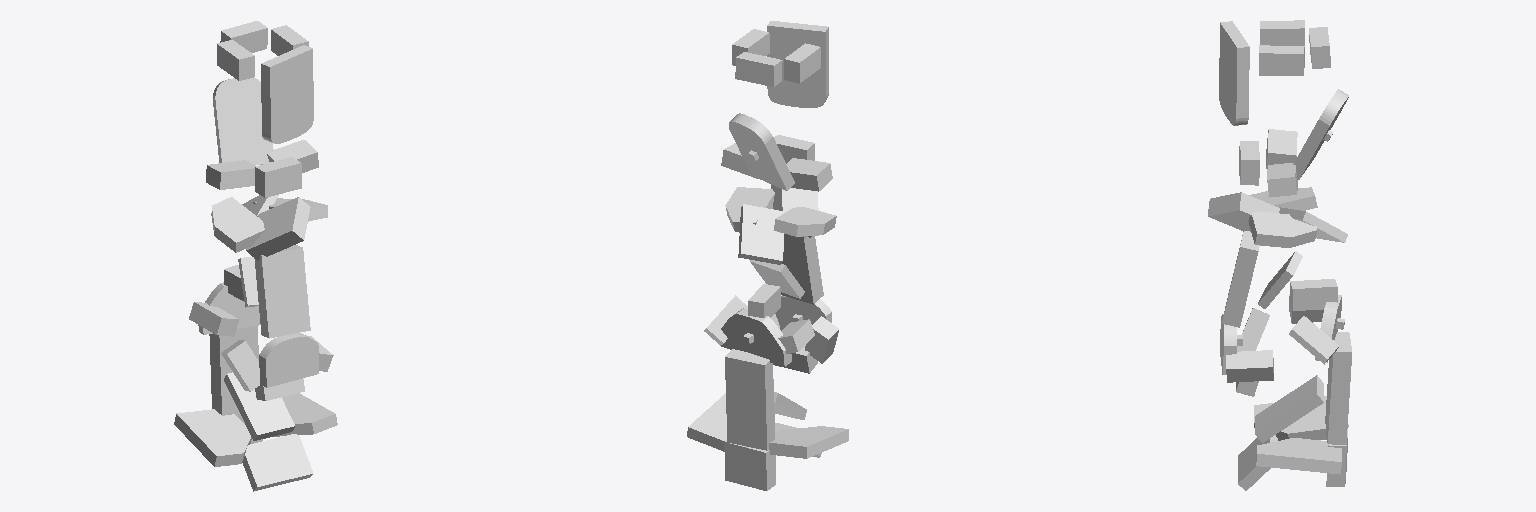
--- Facts derived from the render (not from the file) ---
3 views of the same robot in one strip: view 1: azimuth 30°, elevation 25°; view 2: azimuth 150°, elevation 25°; view 3: azimuth 270°, elevation 25° (orthographic).
Robot: GEN3_URDF_V12 — 38 links, 37 joints (3 revolute, 4 continuous, 30 fixed); root link base_link; default pose: all joints at 0.
Links seen in each view (by area): view 1: Taxel_1001, Taxel_1012, Taxel_1005, Taxel_1024, Taxel_1026, Taxel_1011, Taxel_1013, Taxel_1027, Taxel_1014, Taxel_1022, Taxel_1007, Taxel_1025 (+10 smaller); view 2: Taxel_1022, Taxel_1001, Taxel_1005, Taxel_1021, Taxel_1016, Taxel_1023, Taxel_1012, Taxel_1024, Taxel_1014, Taxel_1025, Taxel_1003, Taxel_1006 (+13 smaller); view 3: Taxel_1001, Taxel_1025, Taxel_1022, Taxel_1027, Taxel_1015, Taxel_1012, Taxel_1013, Taxel_1005, Taxel_1008, Taxel_1002, Taxel_1019, Taxel_1024 (+13 smaller).
Boxes of the visible links, bbox=[...] form: Taxel_1001: bbox=[261, 45, 313, 143]; Taxel_1012: bbox=[254, 245, 310, 338]; Taxel_1005: bbox=[213, 78, 273, 164]; Taxel_1024: bbox=[174, 409, 251, 466]; Taxel_1026: bbox=[242, 434, 313, 491]; Taxel_1011: bbox=[259, 333, 318, 387]; Taxel_1013: bbox=[246, 197, 310, 260]; Taxel_1027: bbox=[224, 372, 294, 440]; Taxel_1014: bbox=[211, 197, 264, 252]; Taxel_1022: bbox=[209, 326, 258, 415]; Taxel_1007: bbox=[255, 157, 301, 197]; Taxel_1025: bbox=[274, 393, 337, 436]; Taxel_1022: bbox=[725, 349, 774, 450]; Taxel_1001: bbox=[767, 21, 828, 107]; Taxel_1005: bbox=[729, 113, 794, 190]; Taxel_1021: bbox=[721, 308, 791, 366]; Taxel_1016: bbox=[738, 204, 784, 264]; Taxel_1023: bbox=[724, 440, 775, 490]; Taxel_1012: bbox=[781, 234, 823, 304]; Taxel_1024: bbox=[769, 426, 848, 458]; Taxel_1014: bbox=[774, 207, 836, 237]; Taxel_1025: bbox=[687, 393, 726, 451]; Taxel_1003: bbox=[735, 52, 782, 86]; Taxel_1006: bbox=[786, 158, 832, 191]; Taxel_1001: bbox=[1219, 21, 1249, 125]; Taxel_1025: bbox=[1256, 438, 1341, 474]; Taxel_1022: bbox=[1325, 332, 1351, 444]; Taxel_1027: bbox=[1255, 375, 1323, 442]; Taxel_1015: bbox=[1248, 211, 1316, 247]; Taxel_1012: bbox=[1222, 231, 1259, 327]; Taxel_1013: bbox=[1208, 192, 1279, 231]; Taxel_1005: bbox=[1293, 89, 1348, 179]; Taxel_1008: bbox=[1226, 350, 1273, 382]; Taxel_1002: bbox=[1259, 45, 1304, 75]; Taxel_1019: bbox=[1290, 279, 1337, 310]; Taxel_1024: bbox=[1254, 396, 1326, 440].
Size in the robot's own frame: 0.182 by 0.1786 by 0.603 metres.
28 mesh visuals loaded from 36 distinct referenced files (28 binary STL); not drawn: 8 (reference not matched to a file when rendering).

URDF robot description (GEN3_URDF_V12):
<robot name="GEN3_URDF_V12" version="1.0">
  <material name="carbon_fiber">
    <color rgba="0.9 0.9 0.9 1"/>
  </material>
  <link name="base_link">
    <inertial>
      <origin xyz="-0.000648 -0.000166 0.084487" rpy="0 0 0" />
      <mass value="1.697" />
      <inertia ixx="0.004622" ixy="9E-06" ixz="6E-05" iyy="0.004495" iyz="9E-06" izz="0.002079" />
    </inertial>
    <visual>
      <origin xyz="0 0 0" rpy="0 0 0" />
      <geometry>
        <mesh filename="package://meshes/base_link.STL" />
      </geometry>
      <material name="carbon_fiber"/>
    </visual>
    <collision>
      <origin xyz="0 0 0" rpy="0 0 0" />
      <geometry>
        <mesh filename="package://meshes/base_link.STL" />
      </geometry>
    </collision>
  </link>
  <link name="Shoulder_Link">
    <inertial>
      <origin xyz="-2.3E-05 -0.010364 -0.07336" rpy="0 0 0" />
      <mass value="1.3773" />
      <inertia ixx="0.00457" ixy="1E-06" ixz="2E-06" iyy="0.004831" iyz="0.000448" izz="0.001409" />
    </inertial>
    <visual>
      <origin xyz="0 0 0" rpy="0 0 0" />
      <geometry>
        <mesh filename="package://meshes/shoulder_link.STL" />
      </geometry>
      <material name="carbon_fiber"/>
    </visual>
    <collision>
      <origin xyz="0 0 0" rpy="0 0 0" />
      <geometry>
        <mesh filename="package://meshes/shoulder_link.STL" />
      </geometry>
    </collision>
  </link>
  <joint name="Actuator1" type="continuous">
    <origin xyz="0 0 0.15643" rpy="3.1416 2.7629E-18 -4.9305E-36" />
    <parent link="base_link" />
    <child link="Shoulder_Link" />
    <axis xyz="0 0 1" />
    <limit effort="39" velocity="0.8727" />
  </joint>
  <link name="HalfArm1_Link">
    <inertial>
      <origin xyz="-4.4E-05 -0.09958 -0.013278" rpy="0 0 0" />
      <mass value="1.1636" />
      <inertia ixx="0.011088" ixy="5E-06" ixz="0" iyy="0.001072" iyz="-0.000691" izz="0.011255" />
    </inertial>
    <visual>
      <origin xyz="0 0 0" rpy="0 0 0" />
      <geometry>
        <mesh filename="package://meshes/half_arm_1_link.STL" />
      </geometry>
      <material name="carbon_fiber"/>
    </visual>
    <collision>
      <origin xyz="0 0 0" rpy="0 0 0" />
      <geometry>
        <mesh filename="package://meshes/half_arm_1_link.STL" />
      </geometry>
    </collision>
  </link>
  <joint name="Actuator2" type="revolute">
    <origin xyz="0 0.005375 -0.12838" rpy="1.5708 2.1343E-17 -1.1102E-16" />
    <parent link="Shoulder_Link" />
    <child link="HalfArm1_Link" />
    <axis xyz="0 0 1" />
    <limit lower="-2.41" upper="2.41" effort="39" velocity="0.8727" />
  </joint>
  <link name="HalfArm2_Link">
    <inertial>
      <origin xyz="-4.4E-05 -0.006641 -0.117892" rpy="0 0 0" />
      <mass value="1.1636" />
      <inertia ixx="0.010932" ixy="0" ixz="-7E-06" iyy="0.011127" iyz="0.000606" izz="0.001043" />
    </inertial>
    <visual>
      <origin xyz="0 0 0" rpy="0 0 0" />
      <geometry>
        <mesh filename="package://meshes/half_arm_2_link.STL" />
      </geometry>
      <material name="carbon_fiber"/>
    </visual>
    <collision>
      <origin xyz="0 0 0" rpy="0 0 0" />
      <geometry>
        <mesh filename="package://meshes/half_arm_2_link.STL" />
      </geometry>
    </collision>
  </link>
  <joint name="Actuator3" type="continuous">
    <origin xyz="0 -0.21038 -0.006375" rpy="-1.5708 1.2326E-32 -2.9122E-16" />
    <parent link="HalfArm1_Link" />
    <child link="HalfArm2_Link" />
    <axis xyz="0 0 1" />
    <limit effort="39" velocity="0.8727" />
  </joint>
  <link name="ForeArm_Link">
    <inertial>
      <origin xyz="-1.8E-05 -0.075478 -0.015006" rpy="0 0 0" />
      <mass value="0.9302" />
      <inertia ixx="0.008147" ixy="-1E-06" ixz="0" iyy="0.000631" iyz="-0.0005" izz="0.008316" />
    </inertial>
    <visual>
      <origin xyz="0 0 0" rpy="0 0 0" />
      <geometry>
        <mesh filename="package://meshes/forearm_link.STL" />
      </geometry>
      <material name="carbon_fiber"/>
    </visual>
    <collision>
      <origin xyz="0 0 0" rpy="0 0 0" />
      <geometry>
        <mesh filename="package://meshes/forearm_link.STL" />
      </geometry>
    </collision>
  </link>
  <joint name="Actuator4" type="revolute">
    <origin xyz="0 0.006375 -0.21038" rpy="1.5708 -6.6954E-17 -1.6653E-16" />
    <parent link="HalfArm2_Link" />
    <child link="ForeArm_Link" />
    <axis xyz="0 0 1" />
    <limit lower="-2.66" upper="2.66" effort="39" velocity="0.8727" />
  </joint>
  <link name="SphericalWrist1_Link">
    <inertial>
      <origin xyz="1E-06 -0.009432 -0.063883" rpy="0 0 0" />
      <mass value="0.6781" />
      <inertia ixx="0.001596" ixy="0" ixz="0" iyy="0.001607" iyz="0.000256" izz="0.000399" />
    </inertial>
    <visual>
      <origin xyz="0 0 0" rpy="0 0 0" />
      <geometry>
        <mesh filename="package://meshes/spherical_wrist_1_link.STL" />
      </geometry>
      <material name="carbon_fiber"/>
    </visual>
    <collision>
      <origin xyz="0 0 0" rpy="0 0 0" />
      <geometry>
        <mesh filename="package://meshes/spherical_wrist_1_link.STL" />
      </geometry>
    </collision>
  </link>
  <joint name="Actuator5" type="continuous">
    <origin xyz="0 -0.20843 -0.006375" rpy="-1.5708 2.2204E-16 -6.373E-17" />
    <parent link="ForeArm_Link" />
    <child link="SphericalWrist1_Link" />
    <axis xyz="0 0 1" />
    <limit effort="9" velocity="0.8727" />
  </joint>
  <link name="SphericalWrist2_Link">
    <inertial>
      <origin xyz="1E-06 -0.045483 -0.00965" rpy="0 0 0" />
      <mass value="0.6781" />
      <inertia ixx="0.001641" ixy="0" ixz="0" iyy="0.00041" iyz="-0.000278" izz="0.001641" />
    </inertial>
    <visual>
      <origin xyz="0 0 0" rpy="0 0 0" />
      <geometry>
        <mesh filename="package://meshes/spherical_wrist_2_link.STL" />
      </geometry>
      <material name="carbon_fiber"/>
    </visual>
    <collision>
      <origin xyz="0 0 0" rpy="0 0 0" />
      <geometry>
        <mesh filename="package://meshes/spherical_wrist_2_link.STL" />
      </geometry>
    </collision>
  </link>
  <joint name="Actuator6" type="revolute">
    <origin xyz="0 0.00017505 -0.10593" rpy="1.5708 9.2076E-28 -8.2157E-15" />
    <parent link="SphericalWrist1_Link" />
    <child link="SphericalWrist2_Link" />
    <axis xyz="0 0 1" />
    <limit lower="-2.23" upper="2.23" effort="9" velocity="0.8727" />
  </joint>
  <link name="Bracelet_Link">
    <inertial>
      <origin xyz="-0.000281 -0.011402 -0.029798" rpy="0 0 0" />
      <mass value="0.5006" />
      <inertia ixx="0.000587" ixy="3E-06" ixz="3E-06" iyy="0.000369" iyz="0.000118" izz="0.000609" />
    </inertial>
    <visual>
      <origin xyz="0 0 0" rpy="0 0 0" />
      <geometry>
        <mesh filename="package://meshes/bracelet_link.STL" />
      </geometry>
      <material name="carbon_fiber"/>
    </visual>
    <collision>
      <origin xyz="0 0 0" rpy="0 0 0" />
      <geometry>
        <mesh filename="package://meshes/bracelet_link.STL" />
      </geometry>
    </collision>
  </link>
  <joint name="Actuator7" type="continuous">
    <origin xyz="0 -0.10593 -0.00017505" rpy="-1.5708 -5.5511E-17 9.6396E-17" />
    <parent link="SphericalWrist2_Link" />
    <child link="Bracelet_Link" />
    <axis xyz="0 0 1" />
    <limit effort="9" velocity="0.8727" />
  </joint>
  <link name="EndEffector_Link">
    <inertial>
      <origin xyz="2.607703E-08 -0.06152506 -1.476509E-22" rpy="0 0 3.14159265358979"/>
      <mass value="1e-6" />
      <inertia ixx="1e-6" ixy="0" ixz="0" iyy="1e-6" iyz="0" izz="1e-6" />
    </inertial>
  </link>
  <joint name="EndEffector" type="fixed">
    <origin xyz="0 0 -0.0615250000000001" rpy="3.14159265358979 1.09937075168372E-32 0" />
    <parent link="Bracelet_Link" />
    <child link="EndEffector_Link" />
    <axis xyz="0 0 0" />
  </joint>
  <link name="GraspPoint_Link">
    <inertial>
      <origin xyz="-1.683871E-08 0.15 -9.884628E-23" rpy="0 0 0"/>
      <mass value="1e-6" />
      <inertia ixx="1e-6" ixy="0" ixz="0" iyy="1e-6" iyz="0" izz="1e-6" />
    </inertial>
  </link>
  <joint name="GraspPoint" type="fixed">
    <origin xyz="0 0 0.15" rpy="0 0 0" />
    <parent link="EndEffector_Link" />
    <child link="GraspPoint_Link" />
    <axis xyz="0 0 0" />
  </joint>

  <link name="Taxel_1000">
    <inertial>
      <origin xyz="0 0 0" rpy="0 0 0" />
      <mass value="0" />
      <inertia ixx="0" ixy="0" ixz="0" iyy="0" iyz="0" izz="0" />
    </inertial>
    <visual>
      <origin xyz="-0.04250419541867655 -0.07646850041798192 0.0007855905951708805" rpy="4.603392598434285 1.5765155050427238 3.033130635597651" />
      <geometry>
        <mesh filename="package://meshes/taxel_meshes/taxel_0.STL" scale="0.01 0.01 0.01"/>
      </geometry>
      <material name="carbon_fiber" />
    </visual>
    <collision>
      <origin xyz="0 0 0" rpy="0 0 0" />
      <geometry>
        <mesh filename="package://meshes/taxel_meshes/taxel_0.STL" scale="0.01 0.01 0.01"/>
      </geometry>
    </collision>
  </link>

  <joint name="Taxel_1000_joint" type="fixed">
    <origin xyz="0 0 0" rpy="0 0 0" />
    <parent link="SphericalWrist2_Link" />
    <child link="Taxel_1000" />
    <axis xyz="0 0 0" />
  </joint>


  <link name="Taxel_1001">
    <inertial>
      <origin xyz="0 0 0" rpy="0 0 0" />
      <mass value="0" />
      <inertia ixx="0" ixy="0" ixz="0" iyy="0" iyz="0" izz="0" />
    </inertial>
    <visual>
      <origin xyz="-1.4938605298674768e-05 -0.040050790502569544 -0.051076626480111506" rpy="0.8051031730330349 1.1810370681142635 -0.8047010596119217" />
      <geometry>
        <mesh filename="package://meshes/taxel_meshes/taxel_1.STL" scale="0.01 0.01 0.01"/>
      </geometry>
      <material name="carbon_fiber" />
    </visual>
    <collision>
      <origin xyz="0 0 0" rpy="0 0 0" />
      <geometry>
        <mesh filename="package://meshes/taxel_meshes/taxel_1.STL" scale="0.01 0.01 0.01"/>
      </geometry>
    </collision>
  </link>

  <joint name="Taxel_1001_joint" type="fixed">
    <origin xyz="0 0 0" rpy="0 0 0" />
    <parent link="SphericalWrist2_Link" />
    <child link="Taxel_1001" />
    <axis xyz="0 0 0" />
  </joint>


  <link name="Taxel_1002">
    <inertial>
      <origin xyz="0 0 0" rpy="0 0 0" />
      <mass value="0" />
      <inertia ixx="0" ixy="0" ixz="0" iyy="0" iyz="0" izz="0" />
    </inertial>
    <visual>
      <origin xyz="0.04271566985884755 -0.07873195857060433 -0.00022802633048775445" rpy="1.6799921560089217 1.5765831105032213 0.10839861698426928" />
      <geometry>
        <mesh filename="package://meshes/taxel_meshes/taxel_2.STL" scale="0.01 0.01 0.01"/>
      </geometry>
      <material name="carbon_fiber" />
    </visual>
    <collision>
      <origin xyz="0 0 0" rpy="0 0 0" />
      <geometry>
        <mesh filename="package://meshes/taxel_meshes/taxel_2.STL" scale="0.01 0.01 0.01"/>
      </geometry>
    </collision>
  </link>

  <joint name="Taxel_1002_joint" type="fixed">
    <origin xyz="0 0 0" rpy="0 0 0" />
    <parent link="SphericalWrist2_Link" />
    <child link="Taxel_1002" />
    <axis xyz="0 0 0" />
  </joint>


  <link name="Taxel_1003">
    <inertial>
      <origin xyz="0 0 0" rpy="0 0 0" />
      <mass value="0" />
      <inertia ixx="0" ixy="0" ixz="0" iyy="0" iyz="0" izz="0" />
    </inertial>
    <visual>
      <origin xyz="-1.241750836219415e-05 -0.07730975191366674 0.0431837840229755" rpy="0.7858420871596953 -1.4940900297599693 -2.355205855806937" />
      <geometry>
        <mesh filename="package://meshes/taxel_meshes/taxel_3.STL" scale="0.01 0.01 0.01"/>
      </geometry>
      <material name="carbon_fiber" />
    </visual>
    <collision>
      <origin xyz="0 0 0" rpy="0 0 0" />
      <geometry>
        <mesh filename="package://meshes/taxel_meshes/taxel_3.STL" scale="0.01 0.01 0.01"/>
      </geometry>
    </collision>
  </link>

  <joint name="Taxel_1003_joint" type="fixed">
    <origin xyz="0 0 0" rpy="0 0 0" />
    <parent link="SphericalWrist2_Link" />
    <child link="Taxel_1003" />
    <axis xyz="0 0 0" />
  </joint>


  <link name="Taxel_1004">
    <inertial>
      <origin xyz="0 0 0" rpy="0 0 0" />
      <mass value="0" />
      <inertia ixx="0" ixy="0" ixz="0" iyy="0" iyz="0" izz="0" />
    </inertial>
    <visual>
      <origin xyz="0.043150247276728726 -0.0001254639437208889 -0.02783098306648868" rpy="-1.462889824467867 0.10742518247060699 0.010391764577284988" />
      <geometry>
        <mesh filename="package://meshes/taxel_meshes/taxel_4.STL" scale="0.01 0.01 0.01"/>
      </geometry>
      <material name="carbon_fiber" />
    </visual>
    <collision>
      <origin xyz="0 0 0" rpy="0 0 0" />
      <geometry>
        <mesh filename="package://meshes/taxel_meshes/taxel_4.STL" scale="0.01 0.01 0.01"/>
      </geometry>
    </collision>
  </link>

  <joint name="Taxel_1004_joint" type="fixed">
    <origin xyz="0 0 0" rpy="0 0 0" />
    <parent link="SphericalWrist1_Link" />
    <child link="Taxel_1004" />
    <axis xyz="0 0 0" />
  </joint>


  <link name="Taxel_1005">
    <inertial>
      <origin xyz="0 0 0" rpy="0 0 0" />
      <mass value="0" />
      <inertia ixx="0" ixy="0" ixz="0" iyy="0" iyz="0" izz="0" />
    </inertial>
    <visual>
      <origin xyz="-0.0002382337409993086 -0.05179760671765822 -0.06710984221647054" rpy="3.1415729263051864 -0.2887493170310711 -1.2820007033549436" />
      <geometry>
        <mesh filename="package://meshes/taxel_meshes/taxel_5.STL" scale="0.01 0.01 0.01"/>
      </geometry>
      <material name="carbon_fiber" />
    </visual>
    <collision>
      <origin xyz="0 0 0" rpy="0 0 0" />
      <geometry>
        <mesh filename="package://meshes/taxel_meshes/taxel_5.STL" scale="0.01 0.01 0.01"/>
      </geometry>
    </collision>
  </link>

  <joint name="Taxel_1005_joint" type="fixed">
    <origin xyz="0 0 0" rpy="0 0 0" />
    <parent link="SphericalWrist1_Link" />
    <child link="Taxel_1005" />
    <axis xyz="0 0 0" />
  </joint>


  <link name="Taxel_1006">
    <inertial>
      <origin xyz="0 0 0" rpy="0 0 0" />
      <mass value="0" />
      <inertia ixx="0" ixy="0" ixz="0" iyy="0" iyz="0" izz="0" />
    </inertial>
    <visual>
      <origin xyz="-0.04318974980140639 -0.00010915210035311942 -0.02761946835919482" rpy="1.6784554426391078 0.1071455967644725 -3.1313389720234928" />
      <geometry>
        <mesh filename="package://meshes/taxel_meshes/taxel_6.STL" scale="0.01 0.01 0.01"/>
      </geometry>
      <material name="carbon_fiber" />
    </visual>
    <collision>
      <origin xyz="0 0 0" rpy="0 0 0" />
      <geometry>
        <mesh filename="package://meshes/taxel_meshes/taxel_6.STL" scale="0.01 0.01 0.01"/>
      </geometry>
    </collision>
  </link>

  <joint name="Taxel_1006_joint" type="fixed">
    <origin xyz="0 0 0" rpy="0 0 0" />
    <parent link="SphericalWrist1_Link" />
    <child link="Taxel_1006" />
    <axis xyz="0 0 0" />
  </joint>


  <link name="Taxel_1007">
    <inertial>
      <origin xyz="0 0 0" rpy="0 0 0" />
      <mass value="0" />
      <inertia ixx="0" ixy="0" ixz="0" iyy="0" iyz="0" izz="0" />
    </inertial>
    <visual>
      <origin xyz="-1.1618120415300221e-05 0.043922698718644126 -0.02686054939608018" rpy="-3.141575363345089 0.034705095518203194 1.5361425157308877" />
      <geometry>
        <mesh filename="package://meshes/taxel_meshes/taxel_7.STL" scale="0.01 0.01 0.01"/>
      </geometry>
      <material name="carbon_fiber" />
    </visual>
    <collision>
      <origin xyz="0 0 0" rpy="0 0 0" />
      <geometry>
        <mesh filename="package://meshes/taxel_meshes/taxel_7.STL" scale="0.01 0.01 0.01"/>
      </geometry>
    </collision>
  </link>

  <joint name="Taxel_1007_joint" type="fixed">
    <origin xyz="0 0 0" rpy="0 0 0" />
    <parent link="SphericalWrist1_Link" />
    <child link="Taxel_1007" />
    <axis xyz="0 0 0" />
  </joint>


  <link name="Taxel_1008">
    <inertial>
      <origin xyz="0 0 0" rpy="0 0 0" />
      <mass value="0" />
      <inertia ixx="0" ixy="0" ixz="0" iyy="0" iyz="0" izz="0" />
    </inertial>
    <visual>
      <origin xyz="0.047082560876994604 0.016625508860321547 -0.046140884202656954" rpy="2.58983245022597 -0.006017370331153325 0.35511138283130766" />
      <geometry>
        <mesh filename="package://meshes/taxel_meshes/taxel_8.STL" scale="0.01 0.01 0.01"/>
      </geometry>
      <material name="carbon_fiber" />
    </visual>
    <collision>
      <origin xyz="0 0 0" rpy="0 0 0" />
      <geometry>
        <mesh filename="package://meshes/taxel_meshes/taxel_8.STL" scale="0.01 0.01 0.01"/>
      </geometry>
    </collision>
  </link>

  <joint name="Taxel_1008_joint" type="fixed">
    <origin xyz="0 0 0" rpy="0 0 0" />
    <parent link="ForeArm_Link" />
    <child link="Taxel_1008" />
    <axis xyz="0 0 0" />
  </joint>


  <link name="Taxel_1009">
    <inertial>
      <origin xyz="0 0 0" rpy="0 0 0" />
      <mass value="0" />
      <inertia ixx="0" ixy="0" ixz="0" iyy="0" iyz="0" izz="0" />
    </inertial>
    <visual>
      <origin xyz="-6.7198083501523495e-06 0.05300935180393007 -0.04461977697709482" rpy="-0.00574583743364575 0.2848268491189645 1.56916429614993" />
      <geometry>
        <mesh filename="package://meshes/taxel_meshes/taxel_9.STL" scale="0.01 0.01 0.01"/>
      </geometry>
      <material name="carbon_fiber" />
    </visual>
    <collision>
      <origin xyz="0 0 0" rpy="0 0 0" />
      <geometry>
        <mesh filename="package://meshes/taxel_meshes/taxel_9.STL" scale="0.01 0.01 0.01"/>
      </geometry>
    </collision>
  </link>

  <joint name="Taxel_1009_joint" type="fixed">
    <origin xyz="0 0 0" rpy="0 0 0" />
    <parent link="ForeArm_Link" />
    <child link="Taxel_1009" />
    <axis xyz="0 0 0" />
  </joint>


  <link name="Taxel_1010">
    <inertial>
      <origin xyz="0 0 0" rpy="0 0 0" />
      <mass value="0" />
      <inertia ixx="0" ixy="0" ixz="0" iyy="0" iyz="0" izz="0" />
    </inertial>
    <visual>
      <origin xyz="-0.047097438974916264 0.016627161287515402 -0.04613586787243025" rpy="2.5894382405952054 0.00585531480516756 2.7166321094460133" />
      <geometry>
        <mesh filename="package://meshes/taxel_meshes/taxel_10.STL" scale="0.01 0.01 0.01"/>
      </geometry>
      <material name="carbon_fiber" />
    </visual>
    <collision>
      <origin xyz="0 0 0" rpy="0 0 0" />
      <geometry>
        <mesh filename="package://meshes/taxel_meshes/taxel_10.STL" scale="0.01 0.01 0.01"/>
      </geometry>
    </collision>
  </link>

  <joint name="Taxel_1010_joint" type="fixed">
    <origin xyz="0 0 0" rpy="0 0 0" />
    <parent link="ForeArm_Link" />
    <child link="Taxel_1010" />
    <axis xyz="0 0 0" />
  </joint>


  <link name="Taxel_1011">
    <inertial>
      <origin xyz="0 0 0" rpy="0 0 0" />
      <mass value="0" />
      <inertia ixx="0" ixy="0" ixz="0" iyy="0" iyz="0" izz="0" />
    </inertial>
    <visual>
      <origin xyz="-7.590645030513553e-06 0.006405133918228834 -0.06439226342932816" rpy="-2.3563396483046097 1.5048366469793355 -0.7866488104429874" />
      <geometry>
        <mesh filename="package://meshes/taxel_meshes/taxel_11.STL" scale="0.01 0.01 0.01"/>
      </geometry>
      <material name="carbon_fiber" />
    </visual>
    <collision>
      <origin xyz="0 0 0" rpy="0 0 0" />
      <geometry>
        <mesh filename="package://meshes/taxel_meshes/taxel_11.STL" scale="0.01 0.01 0.01"/>
      </geometry>
    </collision>
  </link>

  <joint name="Taxel_1011_joint" type="fixed">
    <origin xyz="0 0 0" rpy="0 0 0" />
    <parent link="ForeArm_Link" />
    <child link="Taxel_1011" />
    <axis xyz="0 0 0" />
  </joint>


  <link name="Taxel_1012">
    <inertial>
      <origin xyz="0 0 0" rpy="0 0 0" />
      <mass value="0" />
      <inertia ixx="0" ixy="0" ixz="0" iyy="0" iyz="0" izz="0" />
    </inertial>
    <visual>
      <origin xyz="-8.828563007841432e-06 -0.08046080686920276 -0.059019306181966213" rpy="2.3538499386692475 1.440912816500405 -2.3543282724947714" />
      <geometry>
        <mesh filename="package://meshes/taxel_meshes/taxel_12.STL" scale="0.01 0.01 0.01"/>
      </geometry>
      <material name="carbon_fiber" />
    </visual>
    <collision>
      <origin xyz="0 0 0" rpy="0 0 0" />
      <geometry>
        <mesh filename="package://meshes/taxel_meshes/taxel_12.STL" scale="0.01 0.01 0.01"/>
      </geometry>
    </collision>
  </link>

  <joint name="Taxel_1012_joint" type="fixed">
    <origin xyz="0 0 0" rpy="0 0 0" />
    <parent link="ForeArm_Link" />
    <child link="Taxel_1012" />
    <axis xyz="0 0 0" />
  </joint>


  <link name="Taxel_1013">
    <inertial>
      <origin xyz="0 0 0" rpy="0 0 0" />
      <mass value="0" />
      <inertia ixx="0" ixy="0" ixz="0" iyy="0" iyz="0" izz="0" />
    </inertial>
    <visual>
      <origin xyz="-9.803819467654521e-06 -0.16267771019312338 -0.050246400171184896" rpy="3.9258962085931497 3.06714610464043 -2.3559203713851984" />
      <geometry>
        <mesh filename="package://meshes/taxel_meshes/taxel_13.STL" scale="0.01 0.01 0.01"/>
      </geometry>
      <material name="carbon_fiber" />
    </visual>
    <collision>
      <origin xyz="0 0 0" rpy="0 0 0" />
      <geometry>
        <mesh filename="package://meshes/taxel_meshes/taxel_13.STL" scale="0.01 0.01 0.01"/>
      </geometry>
    </collision>
  </link>

  <joint name="Taxel_1013_joint" type="fixed">
    <origin xyz="0 0 0" rpy="0 0 0" />
    <parent link="ForeArm_Link" />
    <child link="Taxel_1013" />
    <axis xyz="0 0 0" />
  </joint>


  <link name="Taxel_1014">
    <inertial>
      <origin xyz="0 0 0" rpy="0 0 0" />
      <mass value="0" />
      <inertia ixx="0" ixy="0" ixz="0" iyy="0" iyz="0" izz="0" />
    </inertial>
    <visual>
      <origin xyz="-0.04173526667542263 -0.15496948117011622 -0.005150262600599035" rpy="2.947041369349485 0.14206325637029465 3.033195237481877" />
      <geometry>
        <mesh filename="package://meshes/taxel_meshes/taxel_14.STL" scale="0.01 0.01 0.01"/>
      </geometry>
      <material name="carbon_fiber" />
    </visual>
    <collision>
      <origin xyz="0 0 0" rpy="0 0 0" />
      <geometry>
        <mesh filename="package://meshes/taxel_meshes/taxel_14.STL" scale="0.01 0.01 0.01"/>
      </geometry>
    </collision>
  </link>

  <joint name="Taxel_1014_joint" type="fixed">
    <origin xyz="0 0 0" rpy="0 0 0" />
    <parent link="ForeArm_Link" />
    <child link="Taxel_1014" />
    <axis xyz="0 0 0" />
  </joint>


  <link name="Taxel_1015">
    <inertial>
      <origin xyz="0 0 0" rpy="0 0 0" />
      <mass value="0" />
      <inertia ixx="0" ixy="0" ixz="0" iyy="0" iyz="0" izz="0" />
    </inertial>
    <visual>
      <origin xyz="0.04171973319335233 -0.15497094542273304 -0.005154707682772205" rpy="2.9470192358836904 -0.14206087233714942 0.10836546021182321" />
      <geometry>
        <mesh filename="package://meshes/taxel_meshes/taxel_15.STL" scale="0.01 0.01 0.01"/>
      </geometry>
      <material name="carbon_fiber" />
    </visual>
    <collision>
      <origin xyz="0 0 0" rpy="0 0 0" />
      <geometry>
        <mesh filename="package://meshes/taxel_meshes/taxel_15.STL" scale="0.01 0.01 0.01"/>
      </geometry>
    </collision>
  </link>

  <joint name="Taxel_1015_joint" type="fixed">
    <origin xyz="0 0 0" rpy="0 0 0" />
    <parent link="ForeArm_Link" />
    <child link="Taxel_1015" />
    <axis xyz="0 0 0" />
  </joint>


  <link name="Taxel_1016">
    <inertial>
      <origin xyz="0 0 0" rpy="0 0 0" />
      <mass value="0" />
      <inertia ixx="0" ixy="0" ixz="0" iyy="0" iyz="0" izz="0" />
    </inertial>
    <visual>
      <origin xyz="-5.302853516851408e-06 -0.15282581480448965 0.031012491151505076" rpy="2.3907963035647093 0.5138693230200329 0.819862837068585" />
      <geometry>
        <mesh filename="package://meshes/taxel_meshes/taxel_16.STL" scale="0.01 0.01 0.01"/>
      </geometry>
      <material name="carbon_fiber" />
    </visual>
    <collision>
      <origin xyz="0 0 0" rpy="0 0 0" />
      <geometry>
        <mesh filename="package://meshes/taxel_meshes/taxel_16.STL" scale="0.01 0.01 0.01"/>
      </geometry>
    </collision>
  </link>

  <joint name="Taxel_1016_joint" type="fixed">
    <origin xyz="0 0 0" rpy="0 0 0" />
    <parent link="ForeArm_Link" />
    <child link="Taxel_1016" />
    <axis xyz="0 0 0" />
  </joint>


  <link name="Taxel_1017">
    <inertial>
      <origin xyz="0 0 0" rpy="0 0 0" />
      <mass value="0" />
      <inertia ixx="0" ixy="0" ixz="0" iyy="0" iyz="0" izz="0" />
    </inertial>
    <visual>
      <origin xyz="-6.150508083981775e-06 -0.07701626534250128 -0.00987434420722404" rpy="0.8113037932073812 -1.123832852842719 0.8111496978970345" />
      <geometry>
        <mesh filename="package://meshes/taxel_meshes/taxel_17.STL" scale="0.01 0.01 0.01"/>
      </geometry>
      <material name="carbon_fiber" />
    </visual>
    <collision>
      <origin xyz="0 0 0" rpy="0 0 0" />
      <geometry>
        <mesh filename="package://meshes/taxel_meshes/taxel_17.STL" scale="0.01 0.01 0.01"/>
      </geometry>
    </collision>
  </link>

  <joint name="Taxel_1017_joint" type="fixed">
    <origin xyz="0 0 0" rpy="0 0 0" />
    <parent link="ForeArm_Link" />
    <child link="Taxel_1017" />
    <axis xyz="0 0 0" />
  </joint>


  <link name="Taxel_1018">
    <inertial>
      <origin xyz="0 0 0" rpy="0 0 0" />
      <mass value="0" />
      <inertia ixx="0" ixy="0" ixz="0" iyy="0" iyz="0" izz="0" />
    </inertial>
    <visual>
      <origin xyz="0.04775940299230756 -0.029172408330763868 -0.2301544199406168" rpy="-2.015185948847379 0.6457814426216468 -0.16570748110885358" />
      <geometry>
        <mesh filename="package://meshes/taxel_meshes/taxel_18.STL" scale="0.01 0.01 0.01"/>
      </geometry>
      <material name="carbon_fiber" />
    </visual>
    <collision>
      <origin xyz="0 0 0" rpy="0 0 0" />
      <geometry>
        <mesh filename="package://meshes/taxel_meshes/taxel_18.STL" scale="0.01 0.01 0.01"/>
      </geometry>
    </collision>
  </link>

  <joint name="Taxel_1018_joint" type="fixed">
    <origin xyz="0 0 0" rpy="0 0 0" />
    <parent link="HalfArm2_Link" />
    <child link="Taxel_1018" />
    <axis xyz="0 0 0" />
  </joint>


  <link name="Taxel_1019">
    <inertial>
      <origin xyz="0 0 0" rpy="0 0 0" />
      <mass value="0" />
      <inertia ixx="0" ixy="0" ixz="0" iyy="0" iyz="0" izz="0" />
    </inertial>
    <visual>
      <origin xyz="-2.092488763690554e-06 -0.02694220419582137 -0.2644489118296661" rpy="0.7291892589237987 1.5707831143376723 -2.5519764715662125" />
      <geometry>
        <mesh filename="package://meshes/taxel_meshes/taxel_19.STL" scale="0.01 0.01 0.01"/>
      </geometry>
      <material name="carbon_fiber" />
    </visual>
    <collision>
      <origin xyz="0 0 0" rpy="0 0 0" />
      <geometry>
        <mesh filename="package://meshes/taxel_meshes/taxel_19.STL" scale="0.01 0.01 0.01"/>
      </geometry>
    </collision>
  </link>

  <joint name="Taxel_1019_joint" type="fixed">
    <origin xyz="0 0 0" rpy="0 0 0" />
    <parent link="HalfArm2_Link" />
    <child link="Taxel_1019" />
    <axis xyz="0 0 0" />
  </joint>


  <link name="Taxel_1020">
    <inertial>
      <origin xyz="0 0 0" rpy="0 0 0" />
      <mass value="0" />
      <inertia ixx="0" ixy="0" ixz="0" iyy="0" iyz="0" izz="0" />
    </inertial>
    <visual>
      <origin xyz="-0.04713575005582718 -0.026383465676048472 -0.23055139832768035" rpy="1.1955598934441067 0.3454780726652771 3.002022745094881" />
      <geometry>
        <mesh filename="package://meshes/taxel_meshes/taxel_20.STL" scale="0.01 0.01 0.01"/>
      </geometry>
      <material name="carbon_fiber" />
    </visual>
    <collision>
      <origin xyz="0 0 0" rpy="0 0 0" />
      <geometry>
        <mesh filename="package://meshes/taxel_meshes/taxel_20.STL" scale="0.01 0.01 0.01"/>
      </geometry>
    </collision>
  </link>

  <joint name="Taxel_1020_joint" type="fixed">
    <origin xyz="0 0 0" rpy="0 0 0" />
    <parent link="HalfArm2_Link" />
    <child link="Taxel_1020" />
    <axis xyz="0 0 0" />
  </joint>


  <link name="Taxel_1021">
    <inertial>
      <origin xyz="0 0 0" rpy="0 0 0" />
      <mass value="0" />
      <inertia ixx="0" ixy="0" ixz="0" iyy="0" iyz="0" izz="0" />
    </inertial>
    <visual>
      <origin xyz="-1.2173507245044695e-06 -0.054580934607185494 -0.22775170878253925" rpy="3.1415806783350835 -0.13439616083551223 -1.436351106535691" />
      <geometry>
        <mesh filename="package://meshes/taxel_meshes/taxel_21.STL" scale="0.01 0.01 0.01"/>
      </geometry>
      <material name="carbon_fiber" />
    </visual>
    <collision>
      <origin xyz="0 0 0" rpy="0 0 0" />
      <geometry>
        <mesh filename="package://meshes/taxel_meshes/taxel_21.STL" scale="0.01 0.01 0.01"/>
      </geometry>
    </collision>
  </link>

  <joint name="Taxel_1021_joint" type="fixed">
    <origin xyz="0 0 0" rpy="0 0 0" />
    <parent link="HalfArm2_Link" />
    <child link="Taxel_1021" />
    <axis xyz="0 0 0" />
  </joint>


  <link name="Taxel_1022">
    <inertial>
      <origin xyz="0 0 0" rpy="0 0 0" />
      <mass value="0" />
      <inertia ixx="0" ixy="0" ixz="0" iyy="0" iyz="0" izz="0" />
    </inertial>
    <visual>
      <origin xyz="-0.0001333060986898991 -0.05338028930573722 -0.1389517161450241" rpy="3.1415820951482085 -0.05760383141792634 -1.6283383209798288" />
      <geometry>
        <mesh filename="package://meshes/taxel_meshes/taxel_22.STL" scale="0.01 0.01 0.01"/>
      </geometry>
      <material name="carbon_fiber" />
    </visual>
    <collision>
      <origin xyz="0 0 0" rpy="0 0 0" />
      <geometry>
        <mesh filename="package://meshes/taxel_meshes/taxel_22.STL" scale="0.01 0.01 0.01"/>
      </geometry>
    </collision>
  </link>

  <joint name="Taxel_1022_joint" type="fixed">
    <origin xyz="0 0 0" rpy="0 0 0" />
    <parent link="HalfArm2_Link" />
    <child link="Taxel_1022" />
    <axis xyz="0 0 0" />
  </joint>


  <link name="Taxel_1023">
    <inertial>
      <origin xyz="0 0 0" rpy="0 0 0" />
      <mass value="0" />
      <inertia ixx="0" ixy="0" ixz="0" iyy="0" iyz="0" izz="0" />
    </inertial>
    <visual>
      <origin xyz="-3.23855682768594e-05 -0.05187961469696644 -0.04785172827035311" rpy="3.1415814150437598 -0.03491354341370051 -1.5358360861938543" />
      <geometry>
        <mesh filename="package://meshes/taxel_meshes/taxel_23.STL" scale="0.01 0.01 0.01"/>
      </geometry>
      <material name="carbon_fiber" />
    </visual>
    <collision>
      <origin xyz="0 0 0" rpy="0 0 0" />
      <geometry>
        <mesh filename="package://meshes/taxel_meshes/taxel_23.STL" scale="0.01 0.01 0.01"/>
      </geometry>
    </collision>
  </link>

  <joint name="Taxel_1023_joint" type="fixed">
    <origin xyz="0 0 0" rpy="0 0 0" />
    <parent link="HalfArm2_Link" />
    <child link="Taxel_1023" />
    <axis xyz="0 0 0" />
  </joint>


  <link name="Taxel_1024">
    <inertial>
      <origin xyz="0 0 0" rpy="0 0 0" />
      <mass value="0" />
      <inertia ixx="0" ixy="0" ixz="0" iyy="0" iyz="0" izz="0" />
    </inertial>
    <visual>
      <origin xyz="-0.0500349226337144 -0.007382389594276225 -0.06305150607070498" rpy="1.4486306804311142 0.12216206562507158 -3.1415384883390267" />
      <geometry>
        <mesh filename="package://meshes/taxel_meshes/taxel_24.STL" scale="0.01 0.01 0.01"/>
      </geometry>
      <material name="carbon_fiber" />
    </visual>
    <collision>
      <origin xyz="0 0 0" rpy="0 0 0" />
      <geometry>
        <mesh filename="package://meshes/taxel_meshes/taxel_24.STL" scale="0.01 0.01 0.01"/>
      </geometry>
    </collision>
  </link>

  <joint name="Taxel_1024_joint" type="fixed">
    <origin xyz="0 0 0" rpy="0 0 0" />
    <parent link="HalfArm2_Link" />
    <child link="Taxel_1024" />
    <axis xyz="0 0 0" />
  </joint>


  <link name="Taxel_1025">
    <inertial>
      <origin xyz="0 0 0" rpy="0 0 0" />
      <mass value="0" />
      <inertia ixx="0" ixy="0" ixz="0" iyy="0" iyz="0" izz="0" />
    </inertial>
    <visual>
      <origin xyz="0.05086506074464583 -0.00737702635118296 -0.06455261415550584" rpy="-1.710430085278136 0.13963732216697305 5.223083102975737e-05" />
      <geometry>
        <mesh filename="package://meshes/taxel_meshes/taxel_25.STL" scale="0.01 0.01 0.01"/>
      </geometry>
      <material name="carbon_fiber" />
    </visual>
    <collision>
      <origin xyz="0 0 0" rpy="0 0 0" />
      <geometry>
        <mesh filename="package://meshes/taxel_meshes/taxel_25.STL" scale="0.01 0.01 0.01"/>
      </geometry>
    </collision>
  </link>

  <joint name="Taxel_1025_joint" type="fixed">
    <origin xyz="0 0 0" rpy="0 0 0" />
    <parent link="HalfArm2_Link" />
    <child link="Taxel_1025" />
    <axis xyz="0 0 0" />
  </joint>


  <link name="Taxel_1026">
    <inertial>
      <origin xyz="0 0 0" rpy="0 0 0" />
      <mass value="0" />
      <inertia ixx="0" ixy="0" ixz="0" iyy="0" iyz="0" izz="0" />
    </inertial>
    <visual>
      <origin xyz="0.0018625242094073681 0.04412050179254166 -0.0457524543636606" rpy="1.1844515798578078e-05 0.3839797815321262 1.5708540271714284" />
      <geometry>
        <mesh filename="package://meshes/taxel_meshes/taxel_26.STL" scale="0.01 0.01 0.01"/>
      </geometry>
      <material name="carbon_fiber" />
    </visual>
    <collision>
      <origin xyz="0 0 0" rpy="0 0 0" />
      <geometry>
        <mesh filename="package://meshes/taxel_meshes/taxel_26.STL" scale="0.01 0.01 0.01"/>
      </geometry>
    </collision>
  </link>

  <joint name="Taxel_1026_joint" type="fixed">
    <origin xyz="0 0 0" rpy="0 0 0" />
    <parent link="HalfArm2_Link" />
    <child link="Taxel_1026" />
    <axis xyz="0 0 0" />
  </joint>


  <link name="Taxel_1027">
    <inertial>
      <origin xyz="0 0 0" rpy="0 0 0" />
      <mass value="0" />
      <inertia ixx="0" ixy="0" ixz="0" iyy="0" iyz="0" izz="0" />
    </inertial>
    <visual>
      <origin xyz="0.0008638901480674864 0.004619954887956686 -0.11295215320413332" rpy="1.2325445467239488e-05 0.47124624412548083 1.5708551857728619" />
      <geometry>
        <mesh filename="package://meshes/taxel_meshes/taxel_27.STL" scale="0.01 0.01 0.01"/>
      </geometry>
      <material name="carbon_fiber" />
    </visual>
    <collision>
      <origin xyz="0 0 0" rpy="0 0 0" />
      <geometry>
        <mesh filename="package://meshes/taxel_meshes/taxel_27.STL" scale="0.01 0.01 0.01"/>
      </geometry>
    </collision>
  </link>

  <joint name="Taxel_1027_joint" type="fixed">
    <origin xyz="0 0 0" rpy="0 0 0" />
    <parent link="HalfArm2_Link" />
    <child link="Taxel_1027" />
    <axis xyz="0 0 0" />
  </joint>
</robot>
